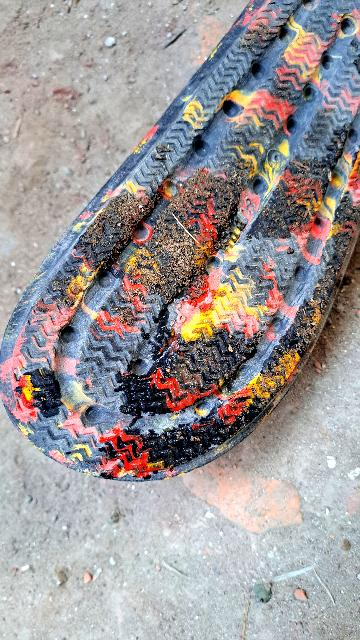sandal: (0, 0, 360, 544)
